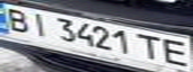1: (112, 27, 133, 56)
2: (90, 24, 112, 52)
3: (51, 16, 78, 44)
4: (72, 20, 96, 48)
B: (0, 4, 33, 34)
E: (160, 36, 193, 70)
I: (24, 9, 54, 38)
T: (136, 32, 163, 62)
